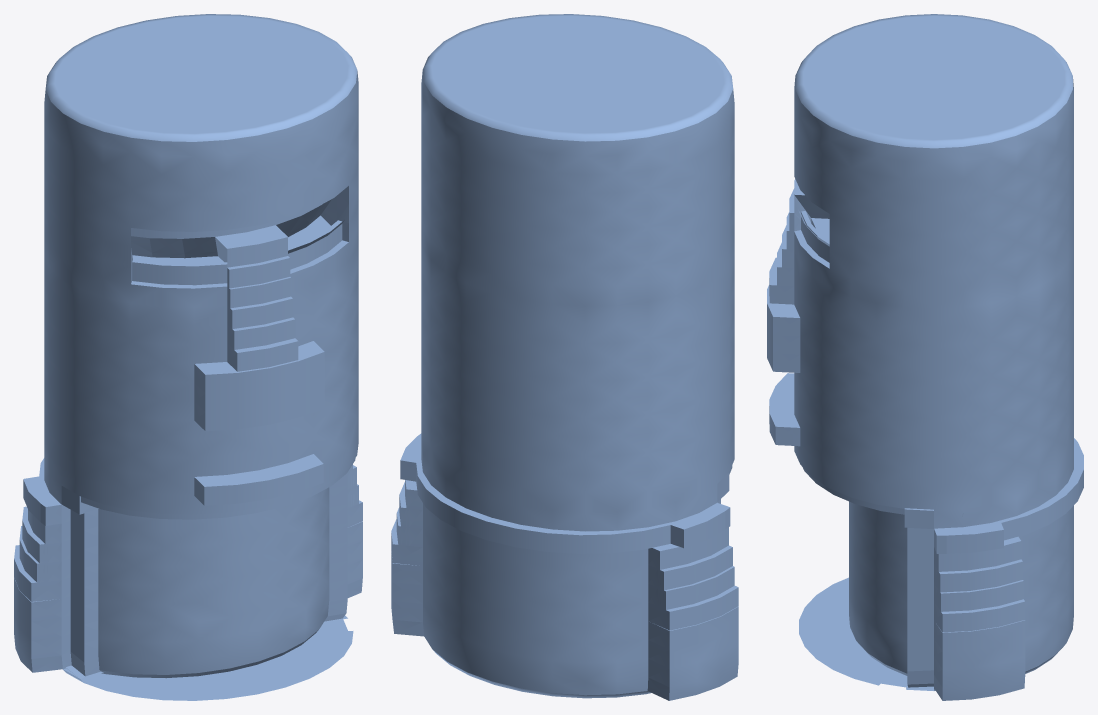
The model's file is moai.dae.
3 views of the same model, side by side, from view 1: azimuth 30°, elevation 25°; view 2: azimuth 150°, elevation 25°; view 3: azimuth 270°, elevation 25° (orthographic). The views are drawn at different scales.
Parts seen in each view (by area): view 1: Cylinder001; view 2: Cylinder001; view 3: Cylinder001.
Part boxes in pixels (bbox=[...]): Cylinder001: bbox=[14, 14, 362, 700]; Cylinder001: bbox=[391, 14, 738, 700]; Cylinder001: bbox=[767, 14, 1083, 700].
Size of the model in its own units: 30.64 by 49.94 by 26.13.
